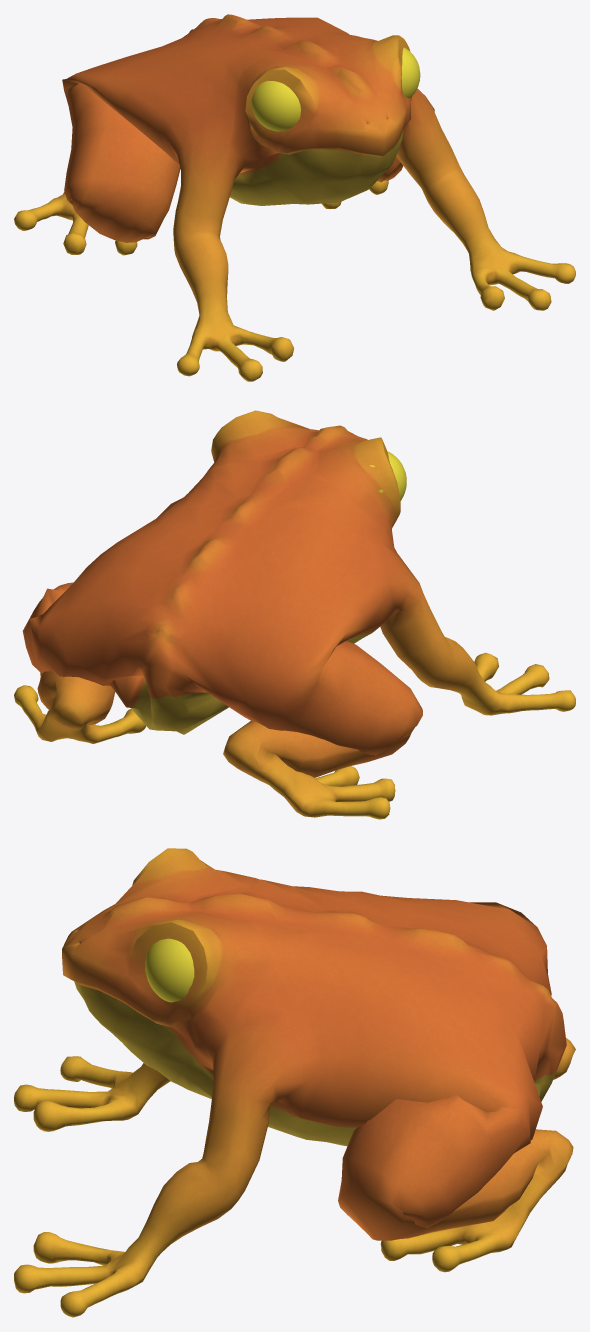
Rendered from Cueyatl.fbx.
The picture shows the model from 3 angles, top to bottom: view 1: azimuth 30°, elevation 25°; view 2: azimuth 150°, elevation 25°; view 3: azimuth 270°, elevation 25°; orthographic projection. The views are drawn at different scales.
Visible parts, largest first — view 1: Frog_low, Sphere; view 2: Frog_low; view 3: Frog_low, Sphere.
Boxes of the visible parts, x1=… form: Frog_low: x1=14, y1=14, x2=575, y2=381; Sphere: x1=251, y1=47, x2=420, y2=131; Frog_low: x1=14, y1=410, x2=575, y2=819; Frog_low: x1=14, y1=848, x2=575, y2=1317; Sphere: x1=145, y1=863, x2=204, y2=1002.
Bounding box in the file's own units: 642 × 384 × 616.
